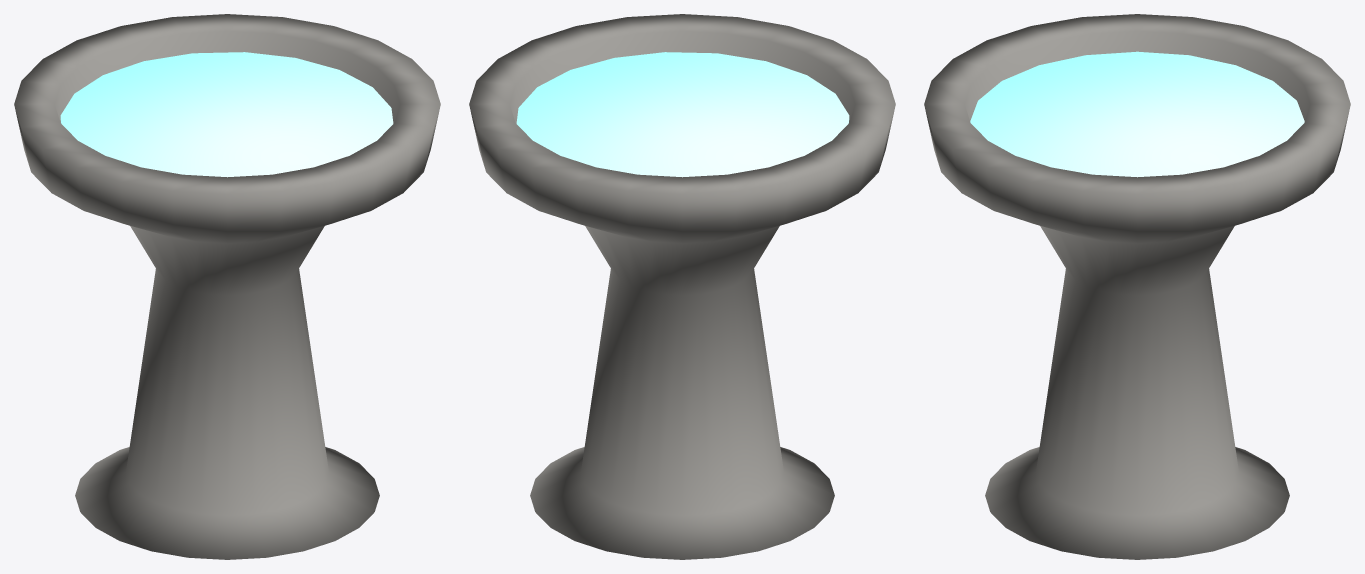
The model's file is raised_floor_stone_font.glb.
3 views of the same model, side by side, from view 1: azimuth 30°, elevation 25°; view 2: azimuth 150°, elevation 25°; view 3: azimuth 270°, elevation 25° (orthographic).
Parts seen in each view (by area): view 1: GD_raised_floor_stone_font__m0, GD_raised_floor_stone_font__m1; view 2: GD_raised_floor_stone_font__m0, GD_raised_floor_stone_font__m1; view 3: GD_raised_floor_stone_font__m0, GD_raised_floor_stone_font__m1.
Boxes of the visible parts, x1,y1,x2,y2 form: GD_raised_floor_stone_font__m0: (14, 14, 440, 559); GD_raised_floor_stone_font__m1: (60, 52, 393, 177); GD_raised_floor_stone_font__m0: (469, 14, 895, 559); GD_raised_floor_stone_font__m1: (516, 52, 849, 177); GD_raised_floor_stone_font__m0: (924, 14, 1350, 559); GD_raised_floor_stone_font__m1: (970, 51, 1304, 177).
Size of the model in its own units: 0.84 by 0.85 by 0.84.
